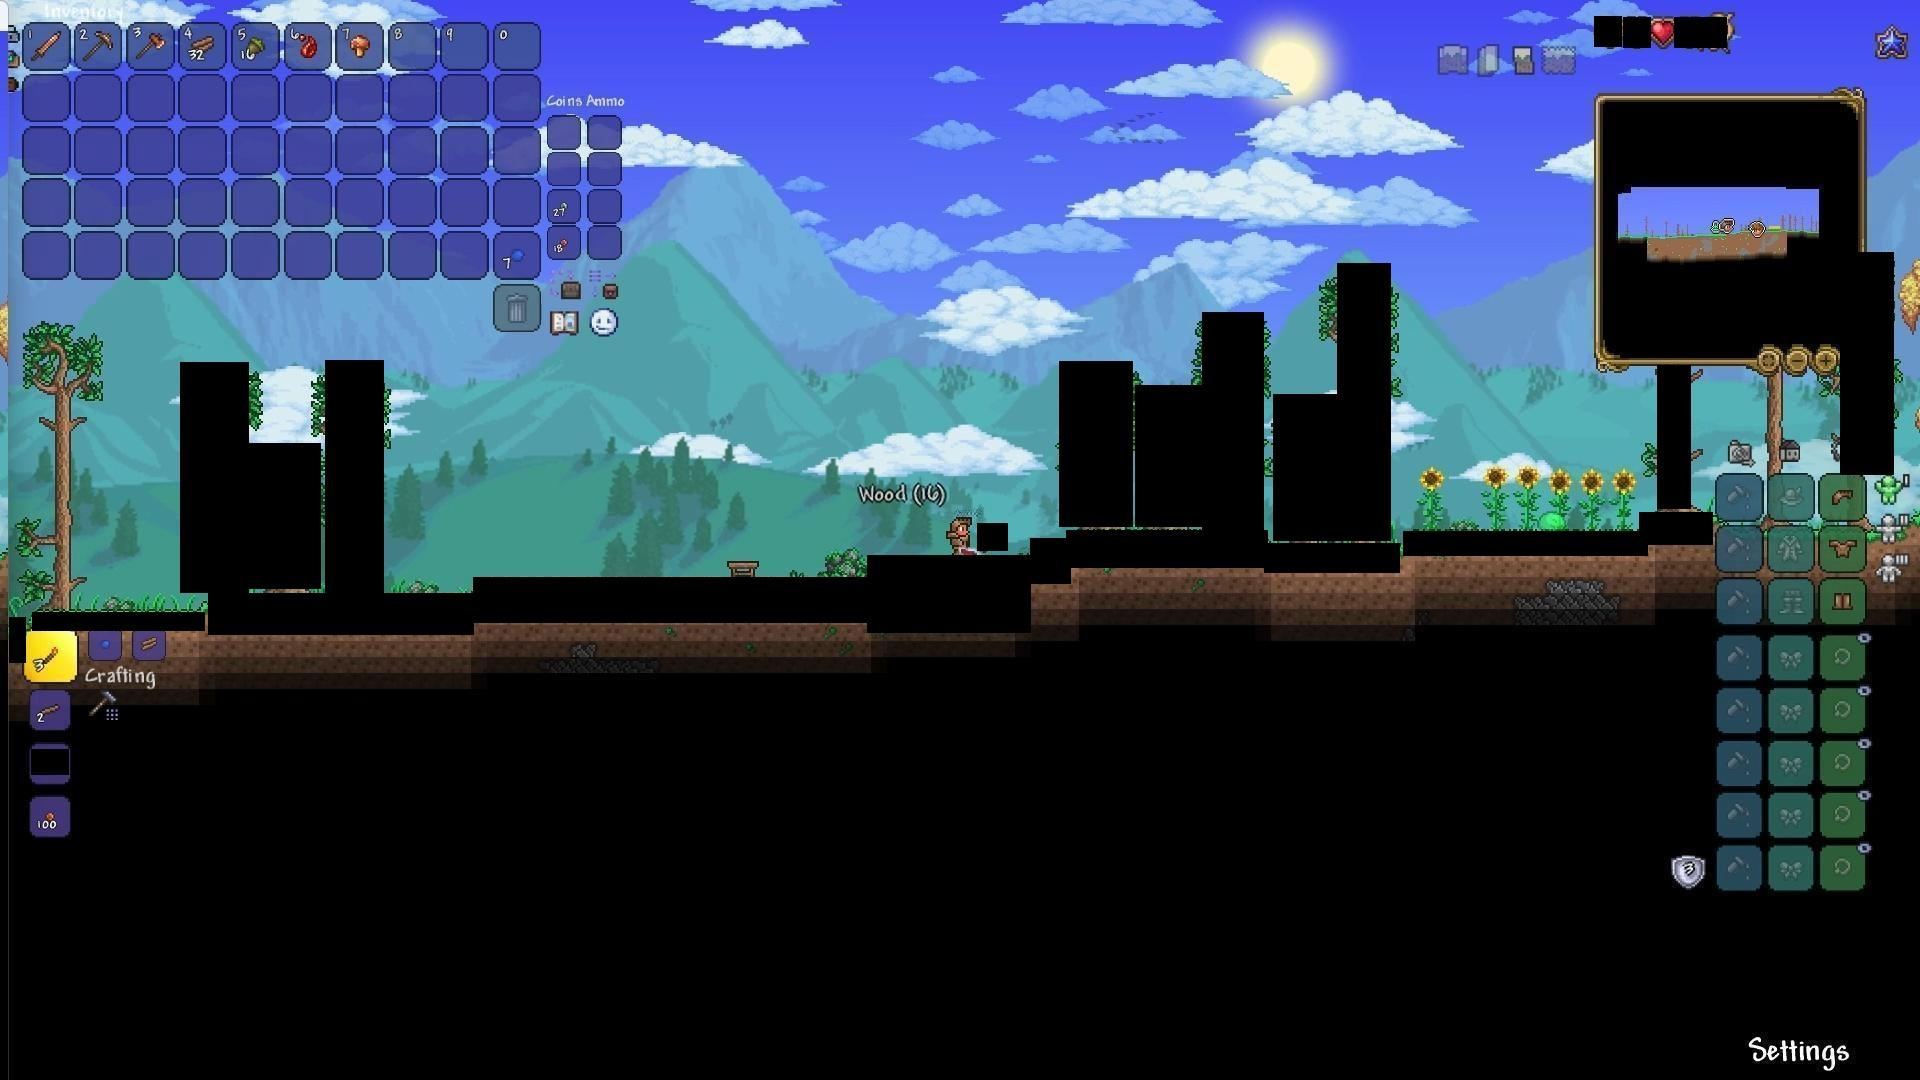breastplate: (1830, 538, 1859, 559)
heart: (1651, 17, 1677, 47)
helmet: (1829, 485, 1855, 509)
legs: (1830, 589, 1857, 615)
slime: (1536, 512, 1571, 534)
tree: (29, 319, 88, 607)
wood: (189, 33, 218, 61), (133, 633, 164, 659)
workbench: (727, 554, 761, 578)
